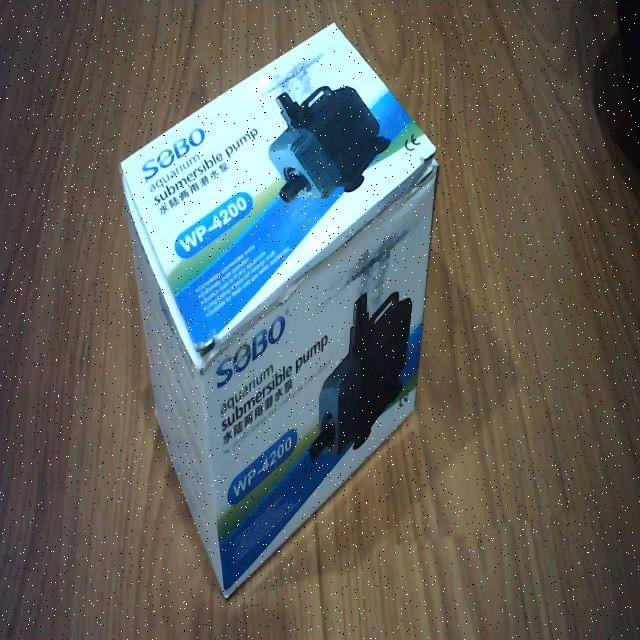SOBO_WP_4200: (113, 20, 445, 606)
